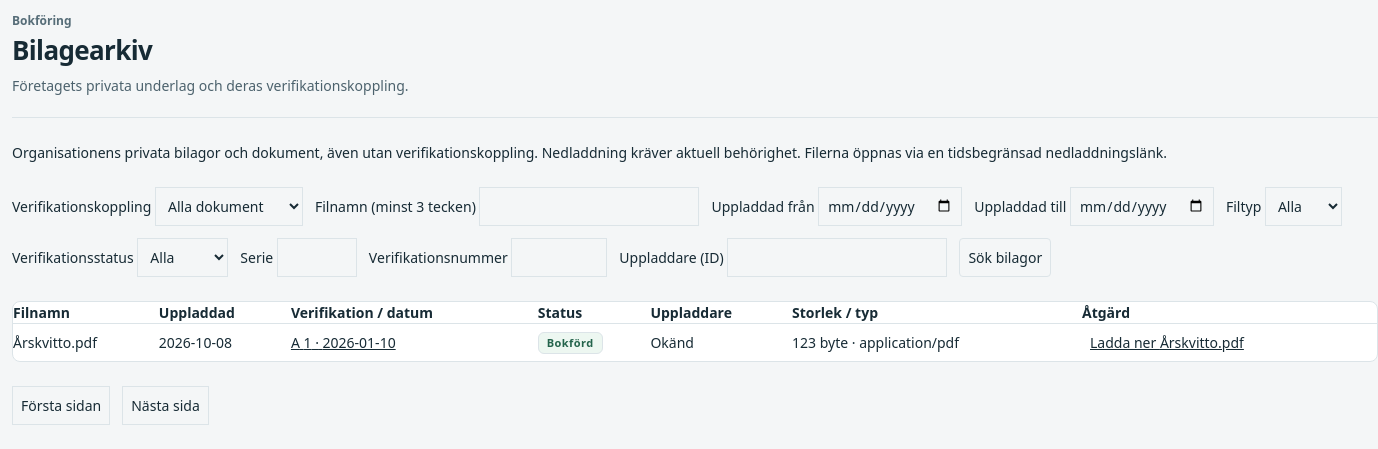
it: pages on the server and surfaces a failed subsequent page
Expected: the text "Årskvitto.pdf" is shown, [13, 323, 159, 361]
Click the button "Nästa sida" at (165, 405), box [122, 386, 209, 425]
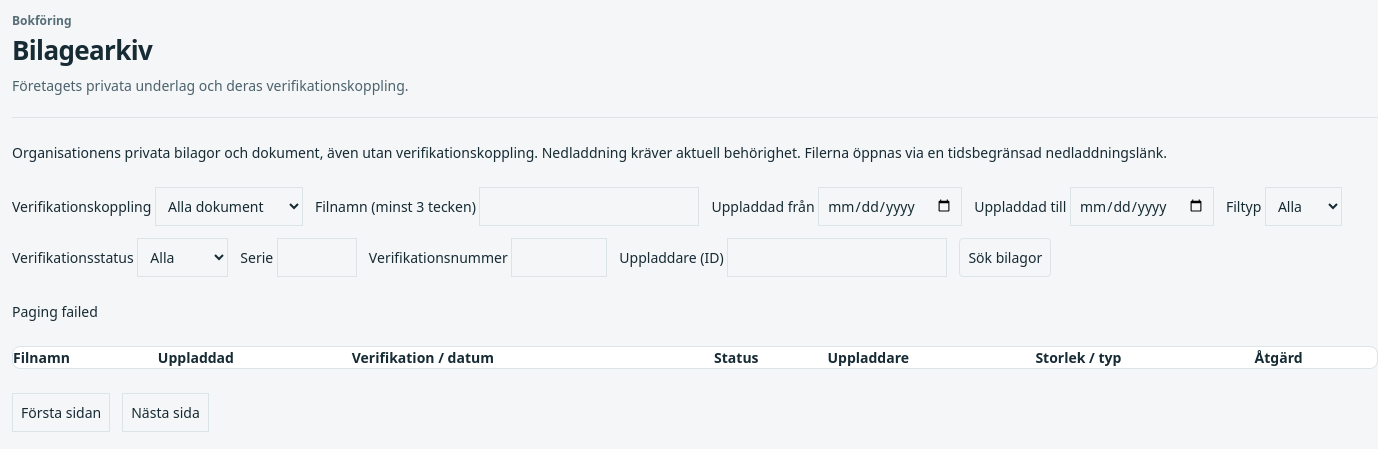
Now the message reads "Paging failed", box [12, 302, 98, 321]
Now the text "Årskvitto.pdf" is gone
